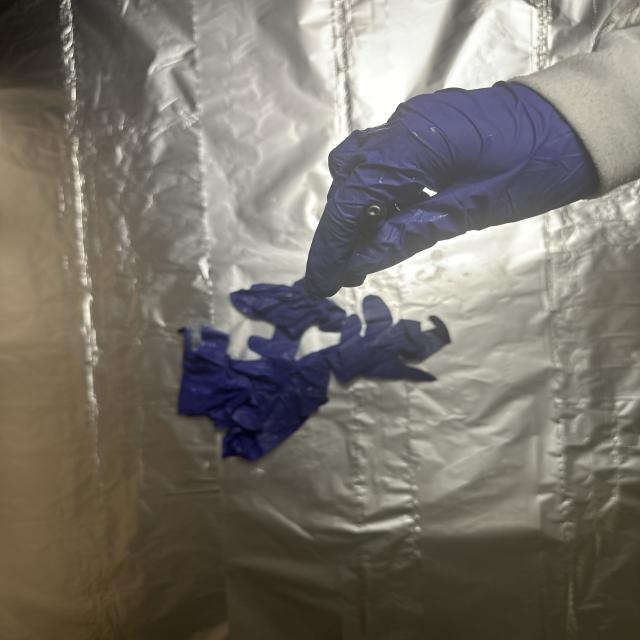gloves_contaminated: (306, 82, 599, 296)
